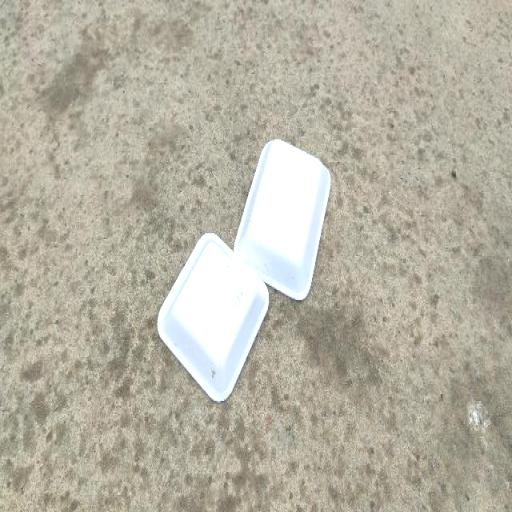styrofoam: (158, 233, 268, 401), (235, 139, 330, 299)
